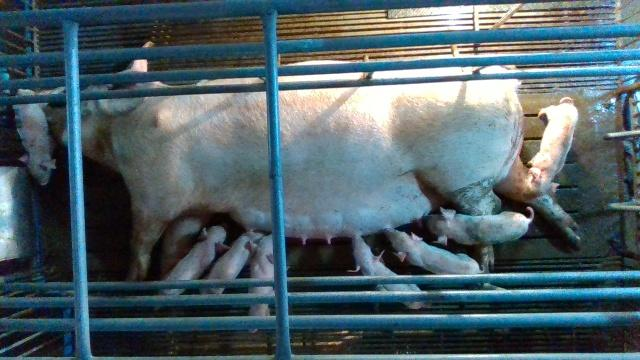piglet: (519, 93, 579, 204), (345, 236, 429, 310), (155, 223, 229, 293), (12, 79, 58, 186), (425, 205, 534, 246), (384, 229, 481, 275), (245, 229, 285, 335), (199, 233, 259, 294)
sow-sleep-lactate: (16, 42, 582, 311)
